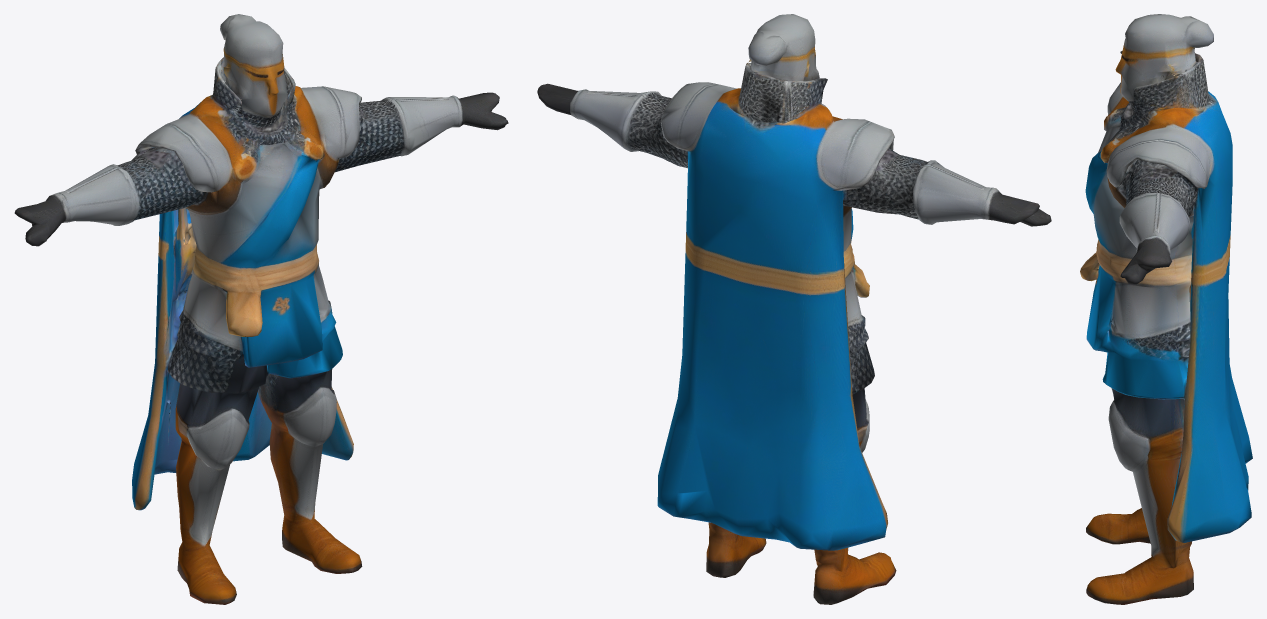
The model's file is npc_captain.glb.
3 views of the same model, side by side, from view 1: azimuth 30°, elevation 25°; view 2: azimuth 150°, elevation 25°; view 3: azimuth 270°, elevation 25° (orthographic). The views are drawn at different scales.
Bounding box in the file's own units: 1.88 × 2 × 0.5726.
Materials: 1 (1 with a texture image).
